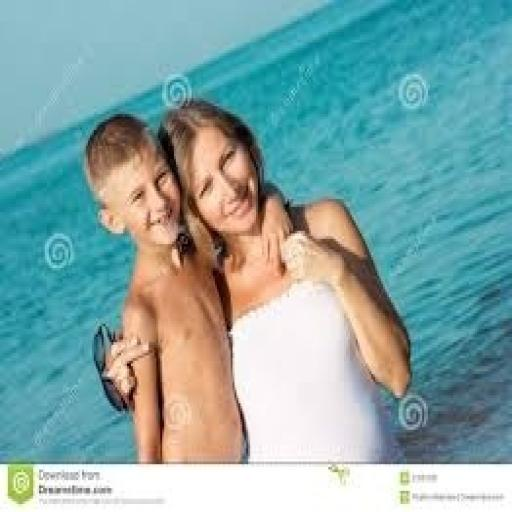hugging: (84, 96, 412, 464)
